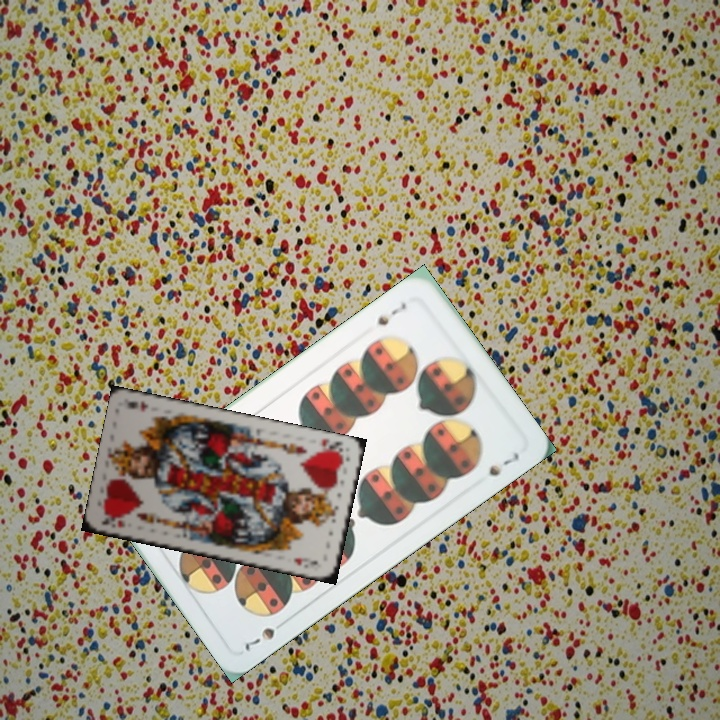HK: (317, 434, 346, 458), (98, 510, 128, 530)
S7: (240, 623, 277, 654), (373, 298, 409, 329)
